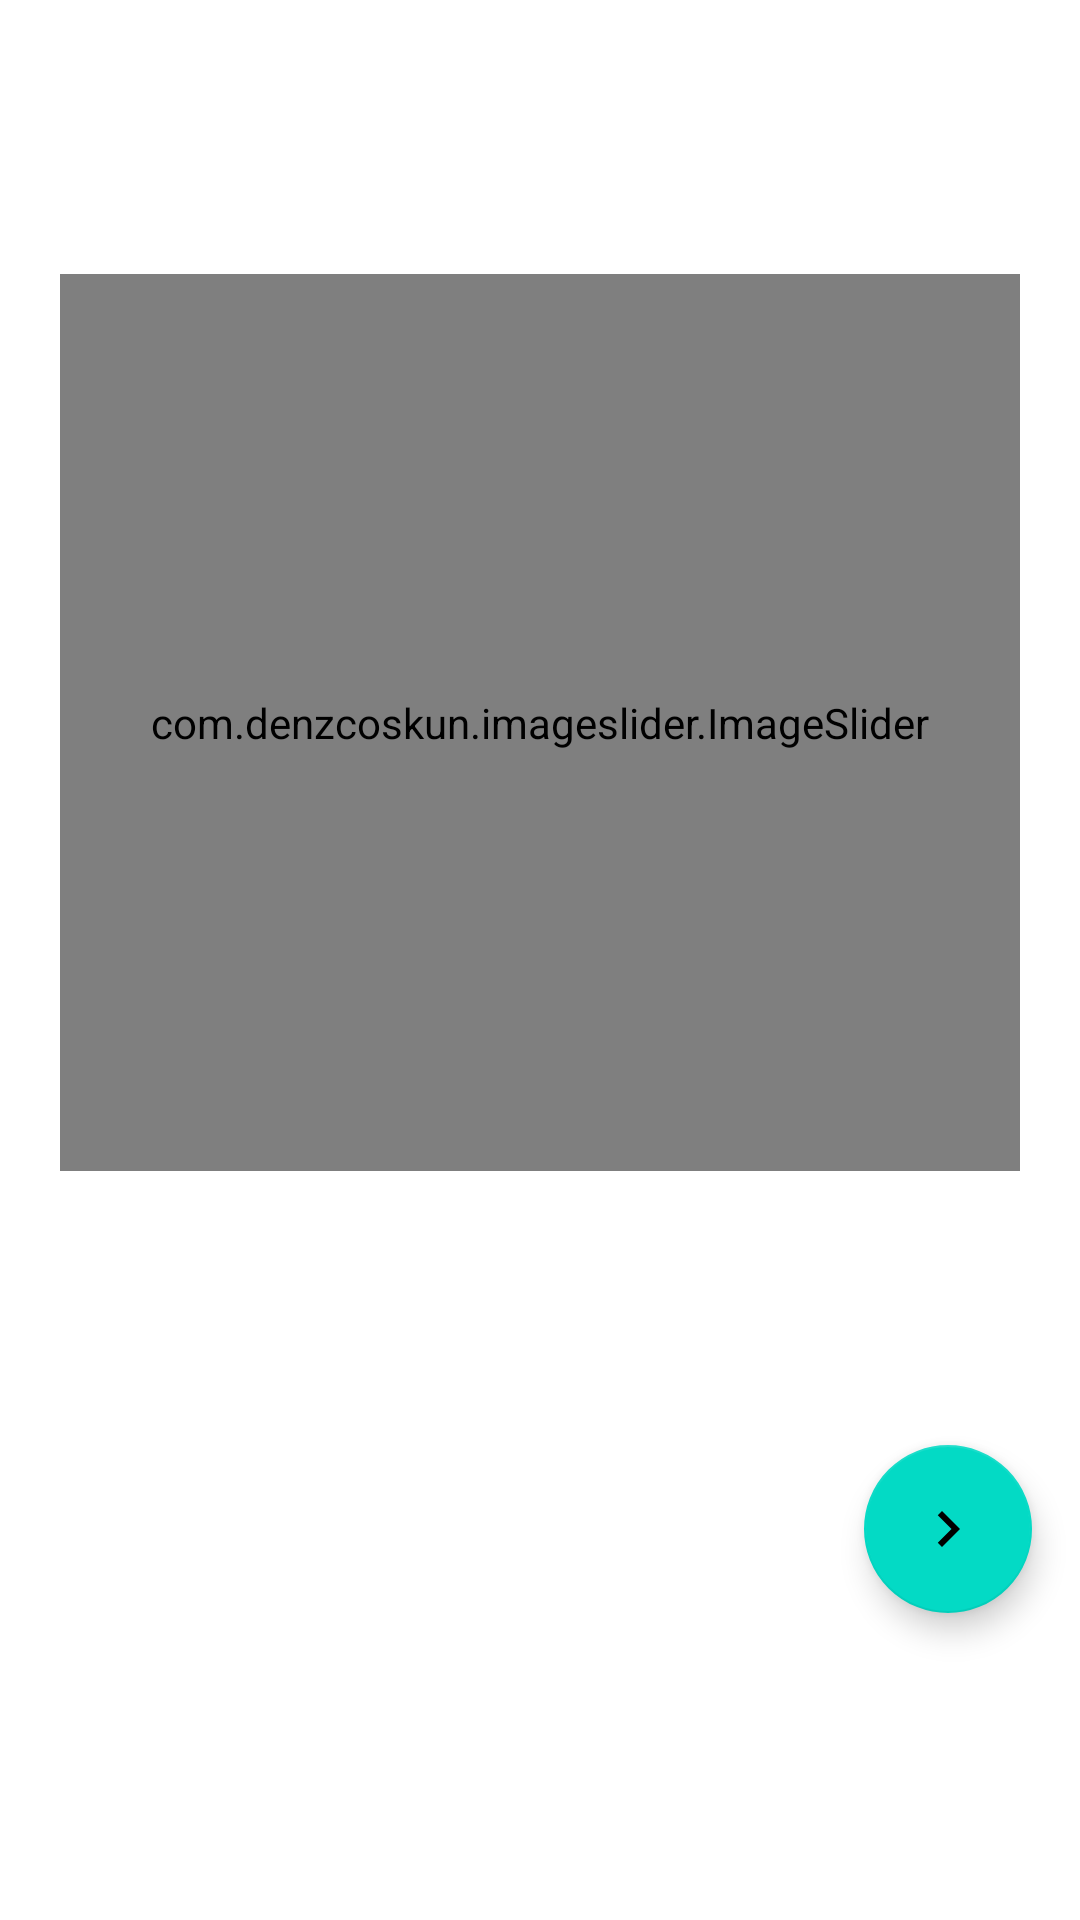

Where to tap for icons on this 1080w x 1920h app screen, as (x,y):
navigate next: (948,1529)
